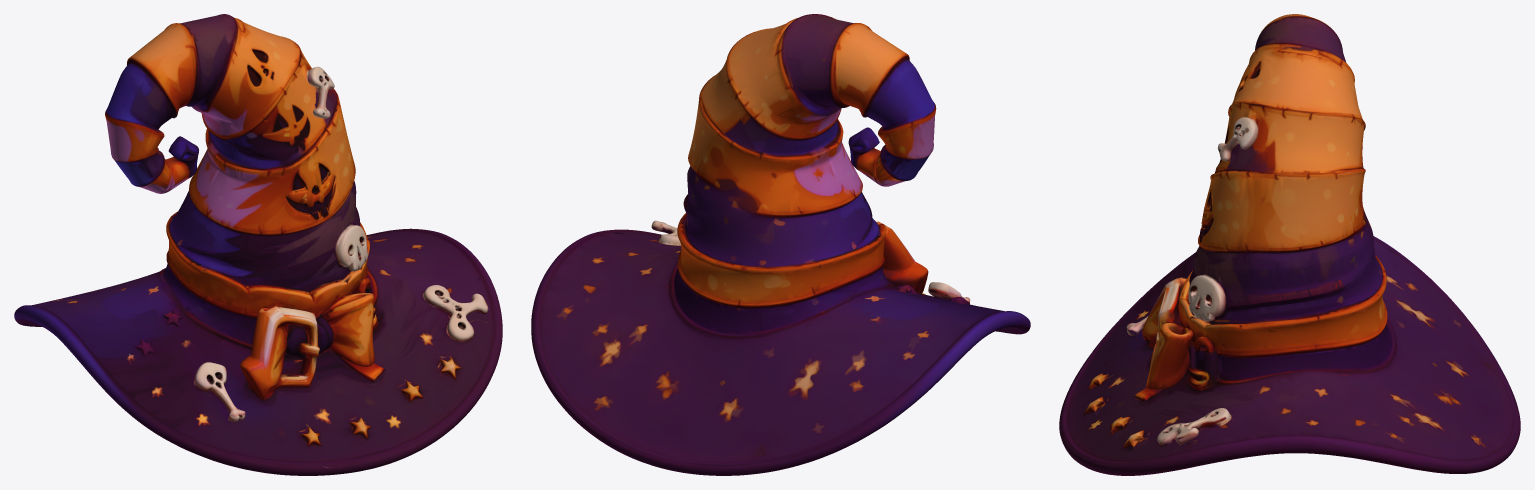
The model's file is pixellabs-halloween-witch-hat-3d-model-2705 (1).high.glb.
3 renders of one model, left to right at view 1: azimuth 30°, elevation 25°; view 2: azimuth 150°, elevation 25°; view 3: azimuth 270°, elevation 25°, orthographic.
Visible parts, largest first — view 1: material; view 2: material; view 3: material.
Part boxes in pixels (x1,y1,x2,y2): material: (14, 14, 502, 475); material: (531, 14, 1030, 475); material: (1059, 14, 1520, 475).
Bounding box in the file's own units: 0.9397 × 0.8172 × 0.8961.
Materials: 1 (1 with a texture image).
